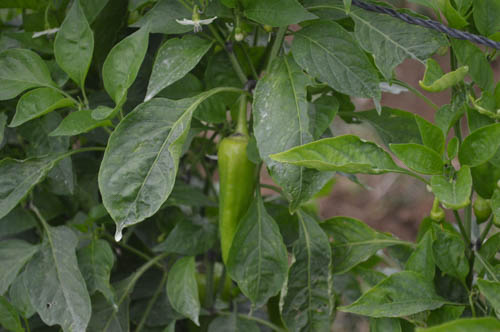ChiliPepper: (211, 135, 255, 283)
